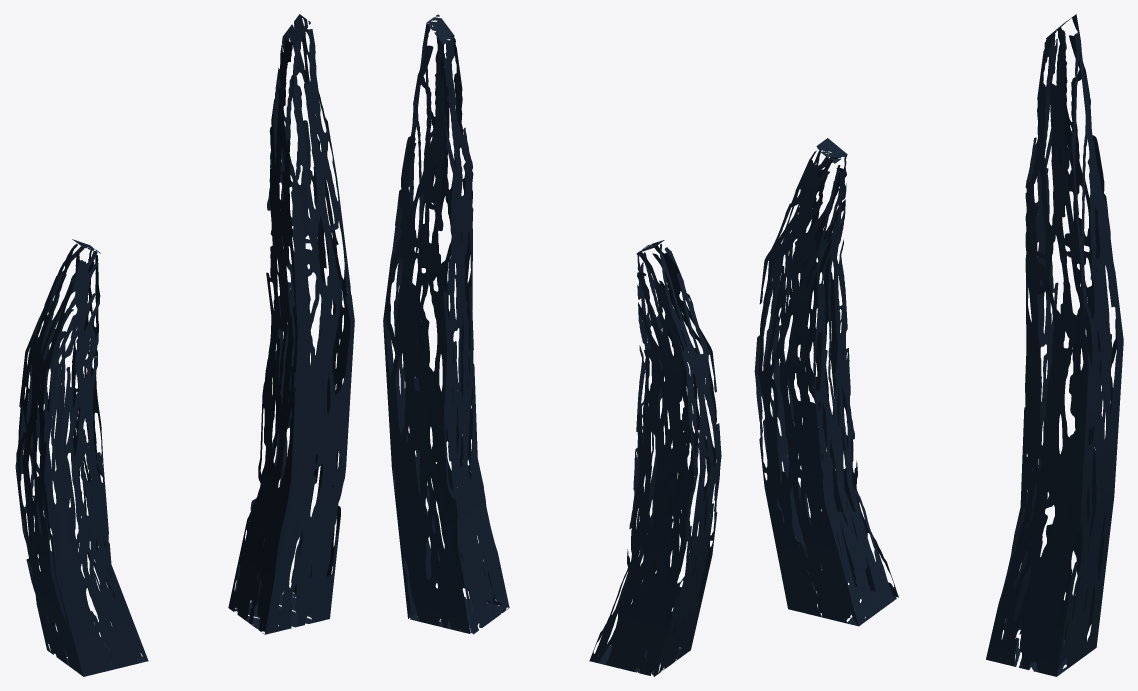
The model's file is grass2.FBX.
3 renders of one model, left to right at view 1: azimuth 30°, elevation 25°; view 2: azimuth 150°, elevation 25°; view 3: azimuth 330°, elevation 25°, orthographic. The views are drawn at different scales.
Visible parts, largest first — view 1: Box002; view 2: Box002; view 3: Box002.
Part boxes in pixels (left/top/right/bottom): Box002: left=15, top=14, right=354, bottom=676; Box002: left=383, top=14, right=721, bottom=676; Box002: left=754, top=14, right=1123, bottom=676.
Size of the model in its own units: 9.87 by 18 by 2.03.
Materials: 1 (1 with a texture image).
